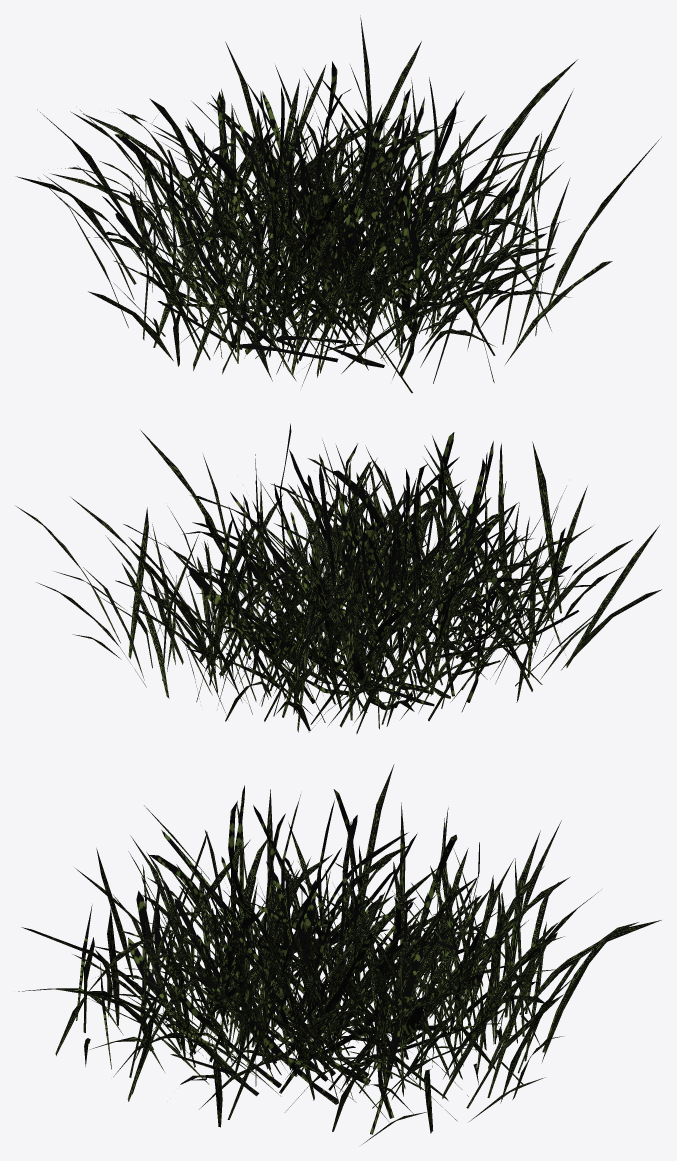
The model's file is Grass1.glb.
3 views of the same model, one above another, from view 1: azimuth 30°, elevation 25°; view 2: azimuth 150°, elevation 25°; view 3: azimuth 270°, elevation 25° (orthographic). The views are drawn at different scales.
Parts seen in each view (by area): view 1: Grass1; view 2: Grass1; view 3: Grass1.
Boxes of the visible parts, box(x1,y1,x2,y2) form: Grass1: box(16, 15, 661, 393); Grass1: box(16, 423, 661, 734); Grass1: box(18, 764, 661, 1144).
Bounding box in the file's own units: 0.5093 × 0.2001 × 0.488.
Materials: 1 (1 with a texture image).
